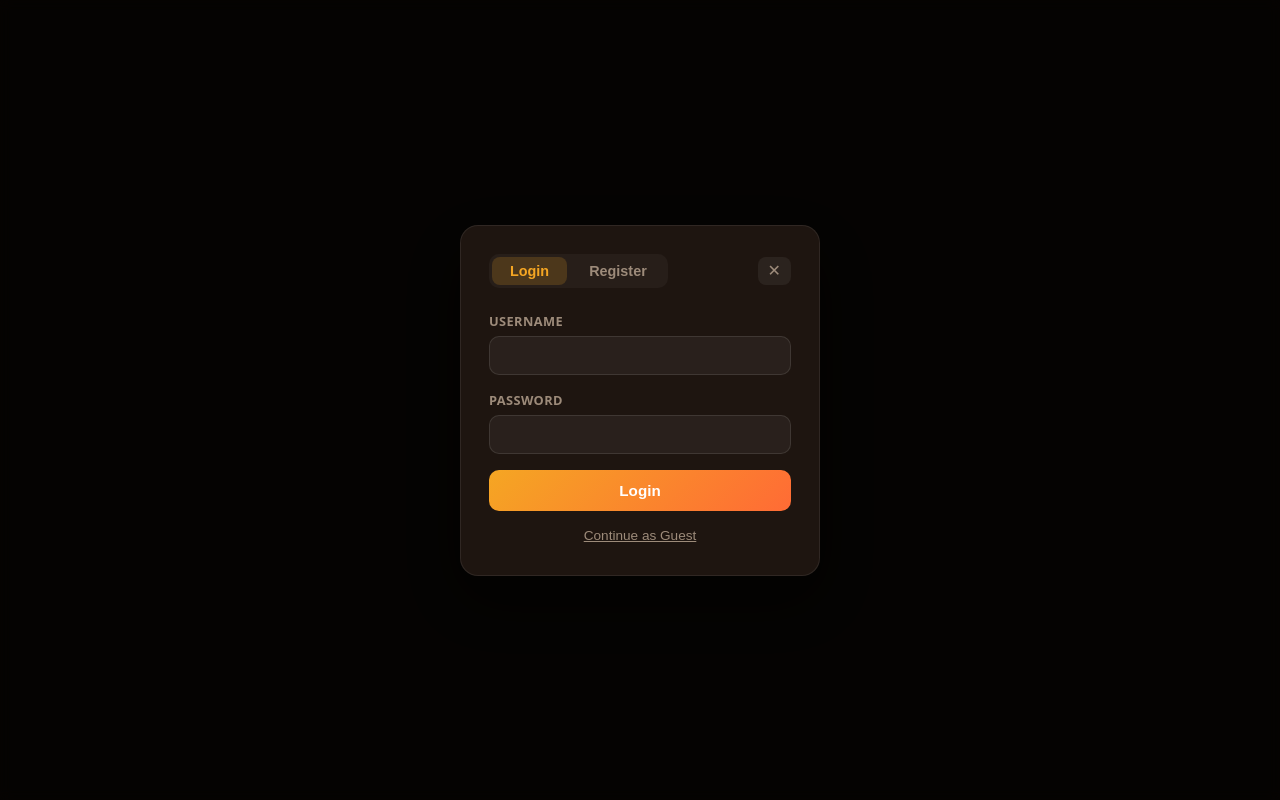
Scenario: AuthModal › shows error on failed login
Type "baduser" into the field labelled "Username".
click(640, 355); type("baduser")  # box x1=489 y1=336 x2=791 y2=374
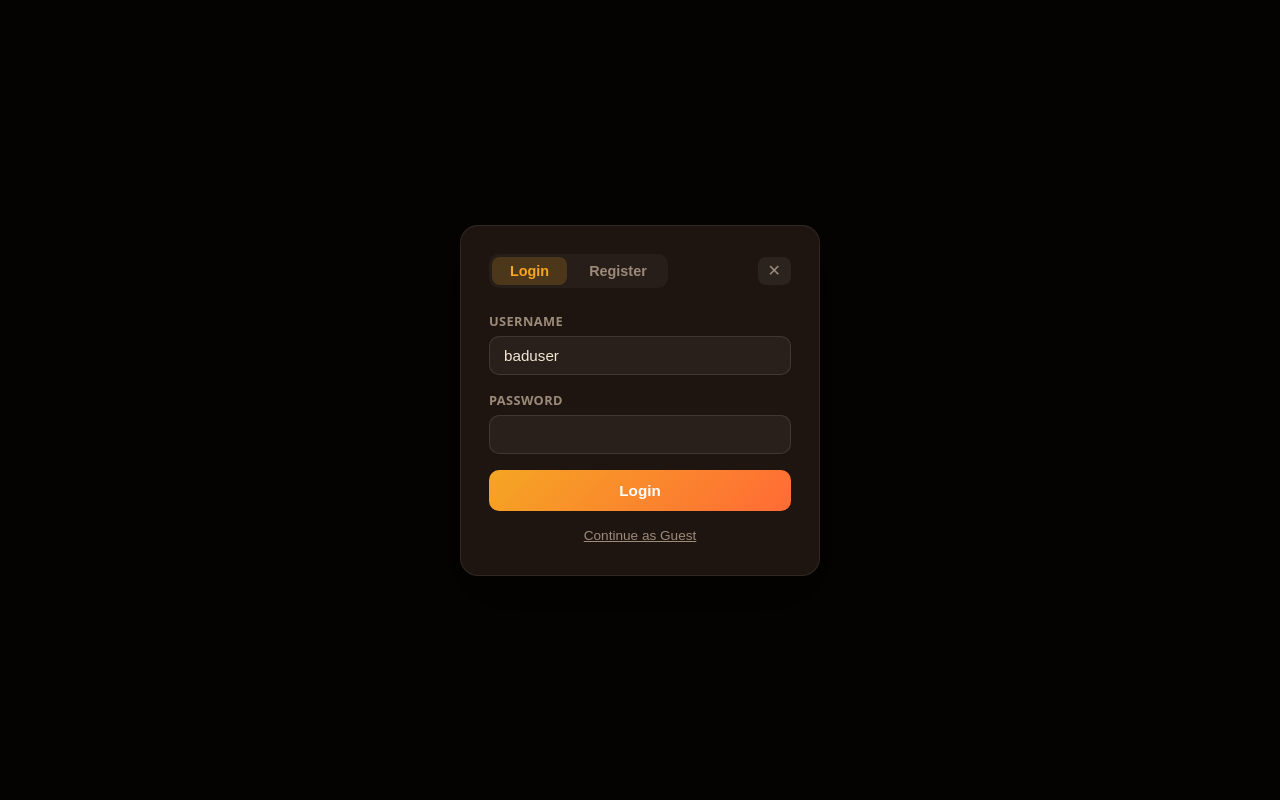
Type "badpass" into the password field labelled "Password".
click(640, 434); type("badpass")  # box x1=489 y1=414 x2=791 y2=454
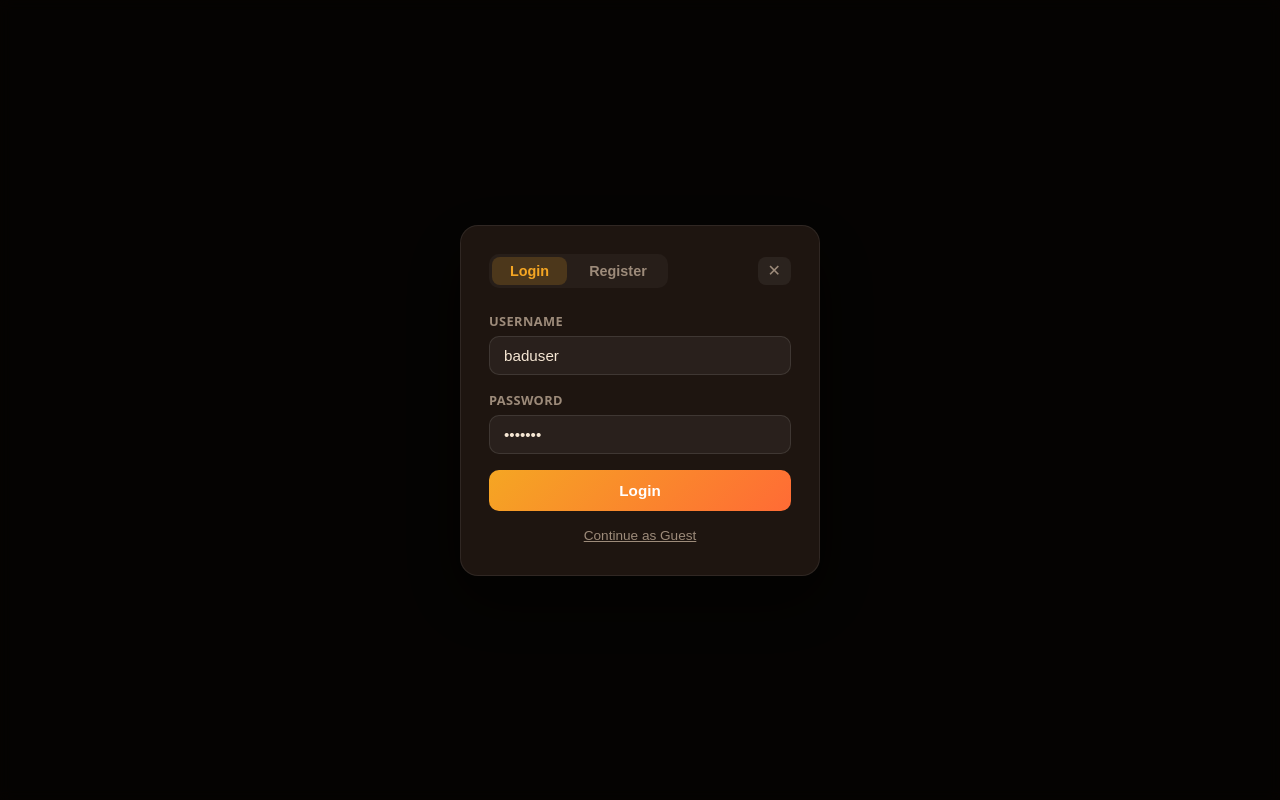
Click the button "Login".
click(640, 490)  # box x1=489 y1=470 x2=791 y2=510
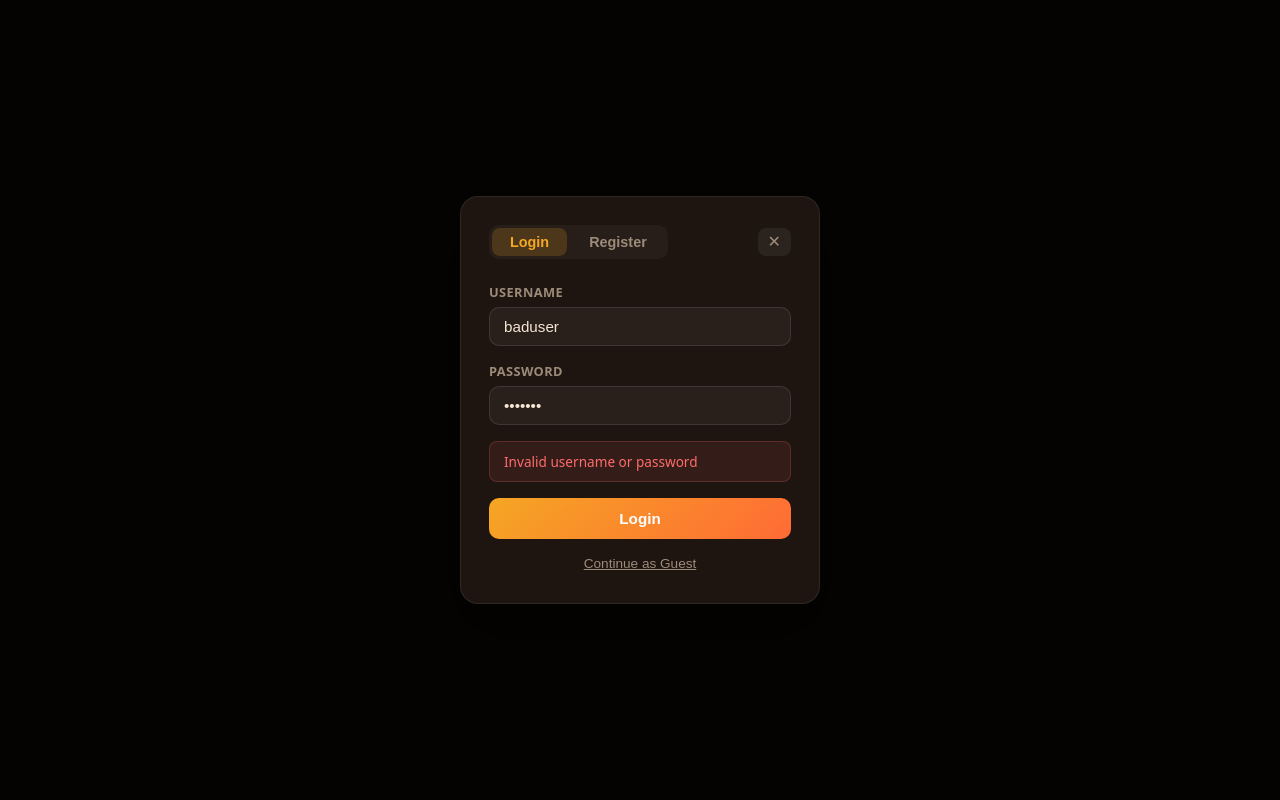
Now the message "Invalid username or password" is shown, box x1=489 y1=441 x2=791 y2=482
Now the message reads "Invalid username or password", box x1=504 y1=452 x2=698 y2=471
